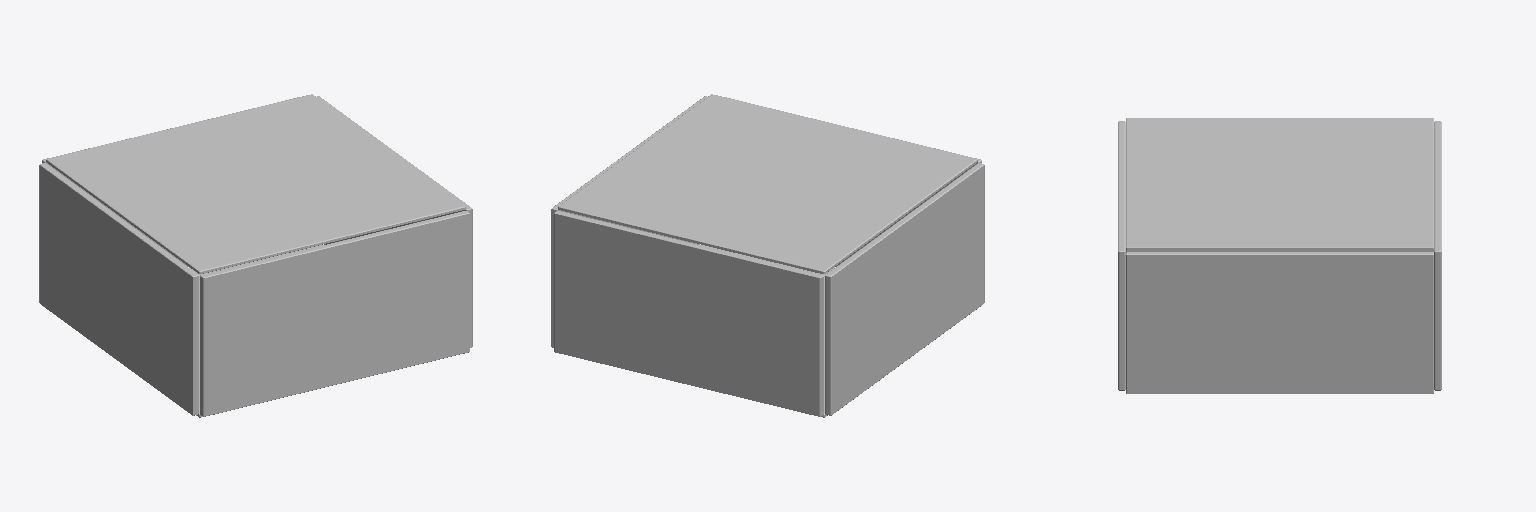
File: maja.obj
3 views of the same model, side by side, from view 1: azimuth 30°, elevation 25°; view 2: azimuth 150°, elevation 25°; view 3: azimuth 270°, elevation 25° (orthographic).
Parts seen in each view (by area): view 1: Cube_Cube.004; view 2: Cube_Cube.004; view 3: Cube_Cube.004.
Part boxes in pixels (x1,y1,x2,y2): Cube_Cube.004: (39, 94, 472, 417); Cube_Cube.004: (551, 94, 984, 417); Cube_Cube.004: (1118, 118, 1441, 393).
Bounding box in the file's own units: 2.1 × 1.05 × 2.1.